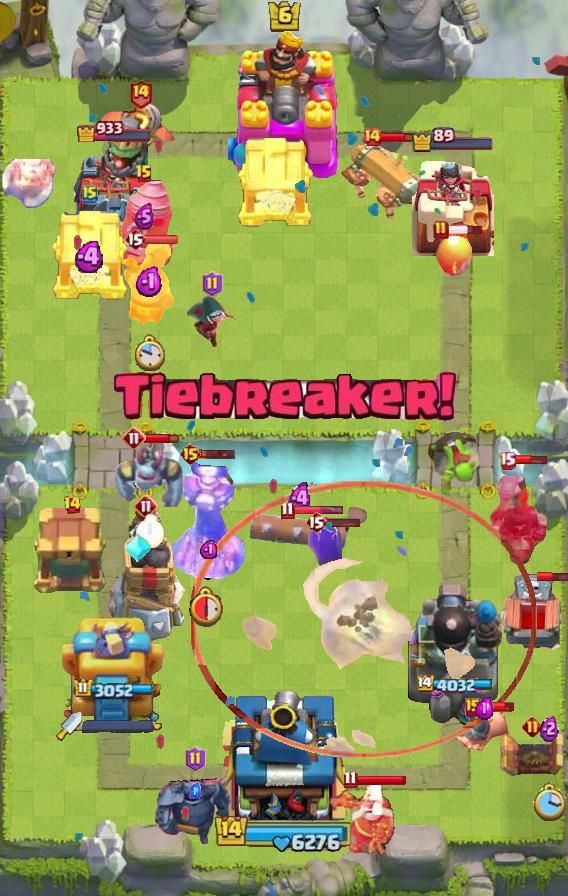bar: (62, 611, 166, 731)
bar-level: (425, 429, 483, 501)
battle-healer: (338, 140, 428, 222)
bomb: (235, 134, 315, 228), (50, 207, 130, 301), (33, 507, 111, 595)
clock: (214, 813, 354, 853)
electro-dragon: (169, 458, 247, 586)
electro-spirit: (74, 241, 107, 273), (136, 266, 165, 298), (288, 482, 312, 515), (133, 202, 154, 229), (540, 714, 560, 742), (475, 696, 494, 720), (199, 539, 217, 559), (189, 783, 201, 799)
elixir: (189, 585, 227, 627), (532, 781, 566, 822), (133, 334, 165, 373), (136, 514, 165, 548)
elixir-collector: (328, 777, 400, 857)
elixir-golem-mid: (498, 573, 568, 659)
elixir-golem-small: (113, 439, 187, 507)
emote: (380, 131, 433, 143), (355, 774, 407, 786), (292, 504, 344, 515), (448, 224, 485, 236), (200, 448, 237, 460), (325, 516, 361, 528), (479, 701, 515, 713), (144, 432, 179, 444), (513, 454, 548, 466), (143, 234, 179, 245), (537, 569, 567, 582)
executioner: (457, 707, 511, 753)
goblin-brawler: (496, 731, 568, 779)
golemite: (150, 772, 240, 848)
hog: (435, 234, 475, 278)
inferno-dragon: (490, 463, 552, 573)
king-tower: (214, 684, 354, 826), (228, 29, 340, 181)
king-tower-bar: (82, 719, 154, 733)
magic-archer: (114, 178, 174, 272)
minion: (250, 513, 350, 549)
monk: (121, 238, 177, 326)
night-witch: (99, 101, 181, 179)
pad_2: (123, 533, 153, 563)
queen-tower: (71, 144, 157, 255), (412, 156, 494, 256)
royal-ghost: (191, 481, 537, 758)
royal-giant: (0, 159, 56, 209)
selected: (411, 127, 495, 153), (75, 118, 152, 142), (74, 677, 154, 699), (414, 675, 492, 695)
spear-goblin: (308, 518, 348, 568)
tesla: (185, 295, 239, 349)
text: (128, 79, 153, 110), (122, 426, 146, 450), (134, 494, 158, 518), (178, 442, 201, 466), (201, 271, 222, 297), (185, 746, 206, 772), (124, 227, 146, 251), (305, 510, 327, 534), (522, 715, 543, 737), (362, 127, 382, 147), (63, 495, 82, 515), (135, 164, 153, 184), (499, 451, 517, 469), (82, 184, 98, 204), (433, 220, 449, 240), (465, 698, 481, 716), (280, 500, 295, 519), (343, 771, 357, 790)
tower-bar: (402, 579, 504, 731)
zappy: (102, 509, 189, 645)
